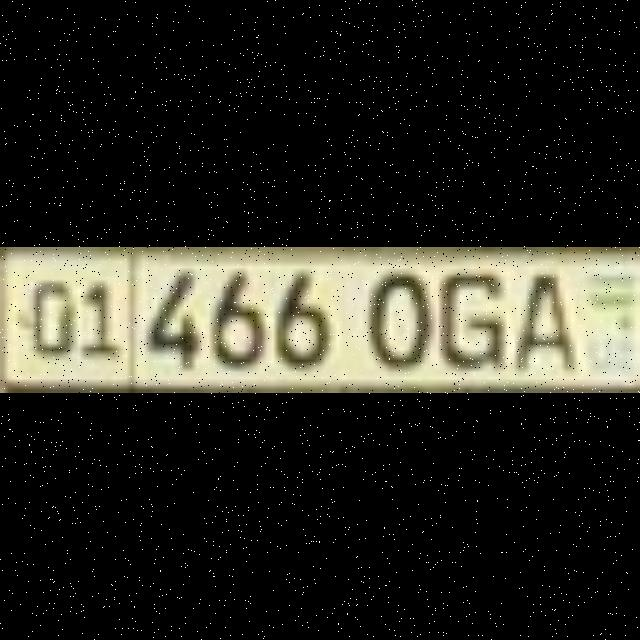0: (24, 277, 64, 347)
1: (70, 277, 111, 353)
4: (140, 265, 193, 365)
6: (264, 265, 324, 365), (206, 265, 258, 365)
A: (510, 265, 570, 365)
G: (434, 265, 500, 365)
O: (363, 265, 422, 365)
